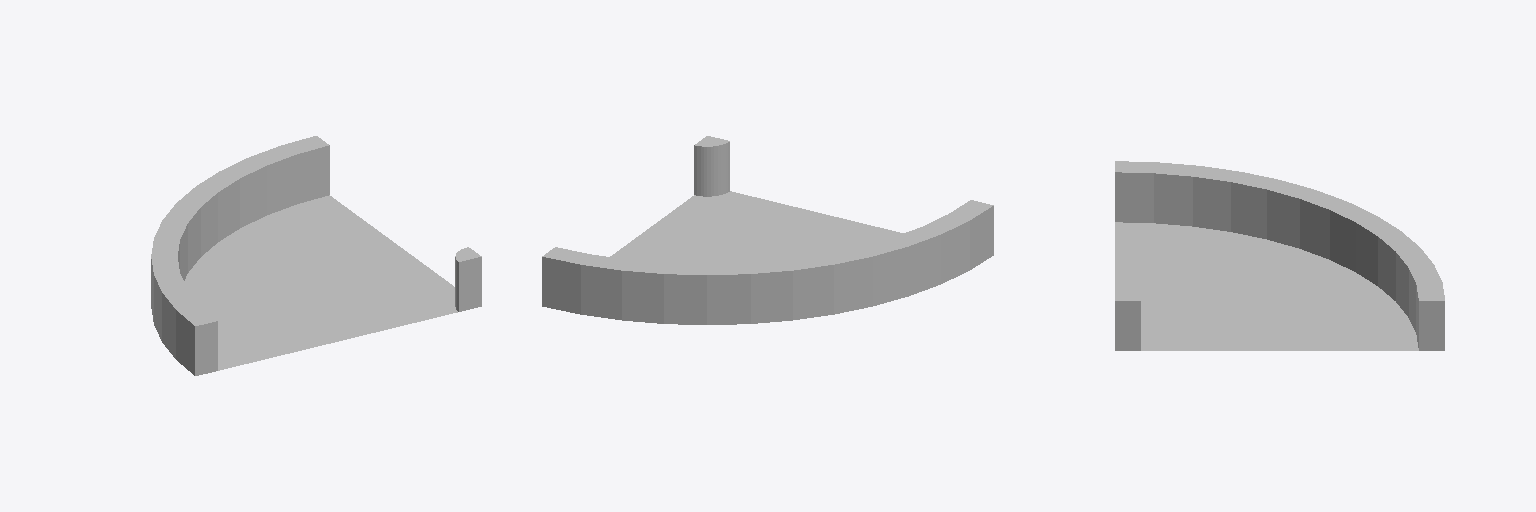
File: right90.obj
3 renders of one model, left to right at view 1: azimuth 30°, elevation 25°; view 2: azimuth 150°, elevation 25°; view 3: azimuth 270°, elevation 25°, orthographic.
Parts seen in each view (by area): view 1: Plane.001_Plane.109; view 2: Plane.001_Plane.109; view 3: Plane.001_Plane.109.
Part boxes in pixels (x1,y1,x2,y2): Plane.001_Plane.109: (151, 136, 481, 375); Plane.001_Plane.109: (542, 136, 993, 324); Plane.001_Plane.109: (1115, 161, 1444, 350).
Bounding box in the file's own units: 6 × 1 × 6.